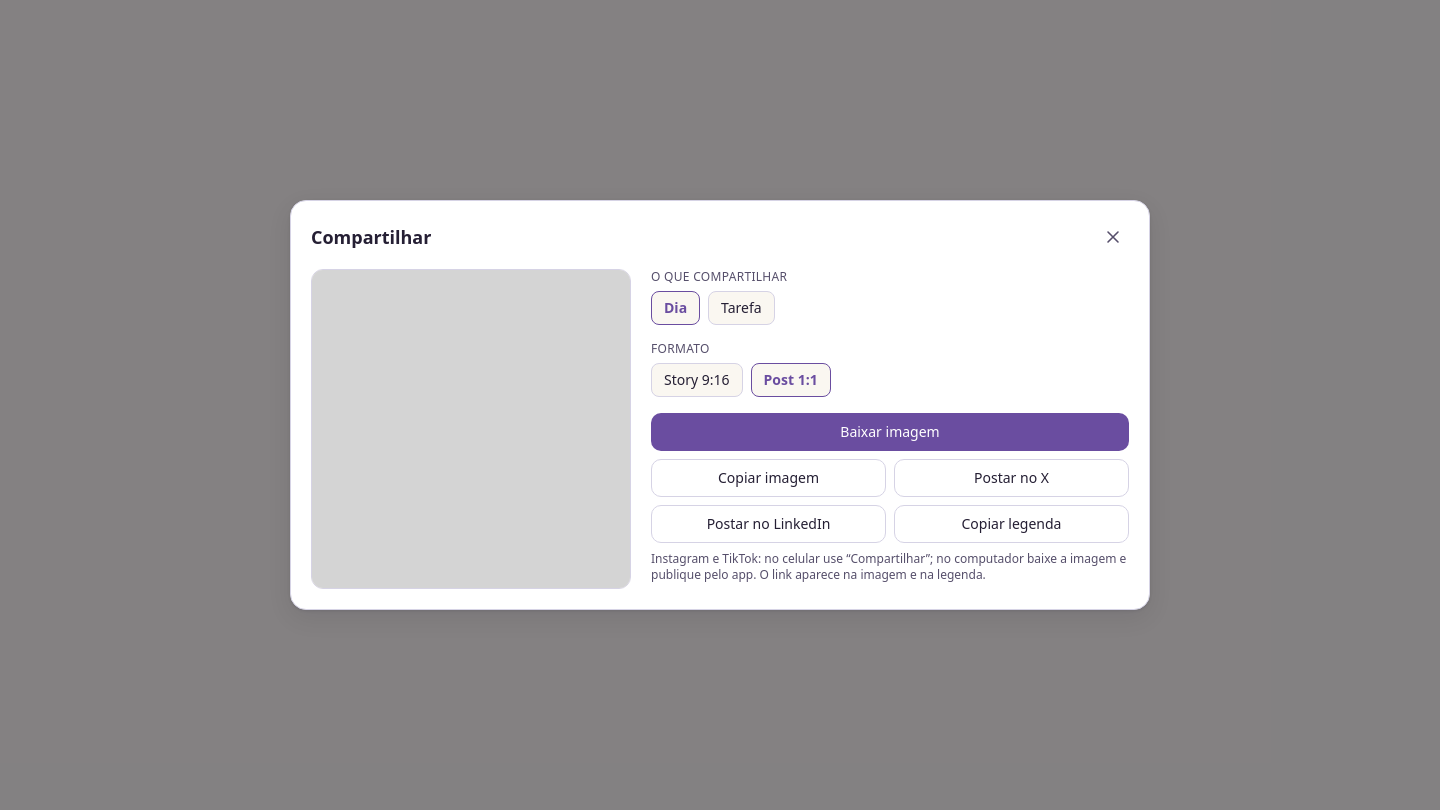
Scenario: ShareDialog › guides the user when there are no tasks yet
The width and height of the screenshot is (1440, 810).
Click the radio button labelled "Tarefa".
click(741, 308)  # box [708,291,775,325]
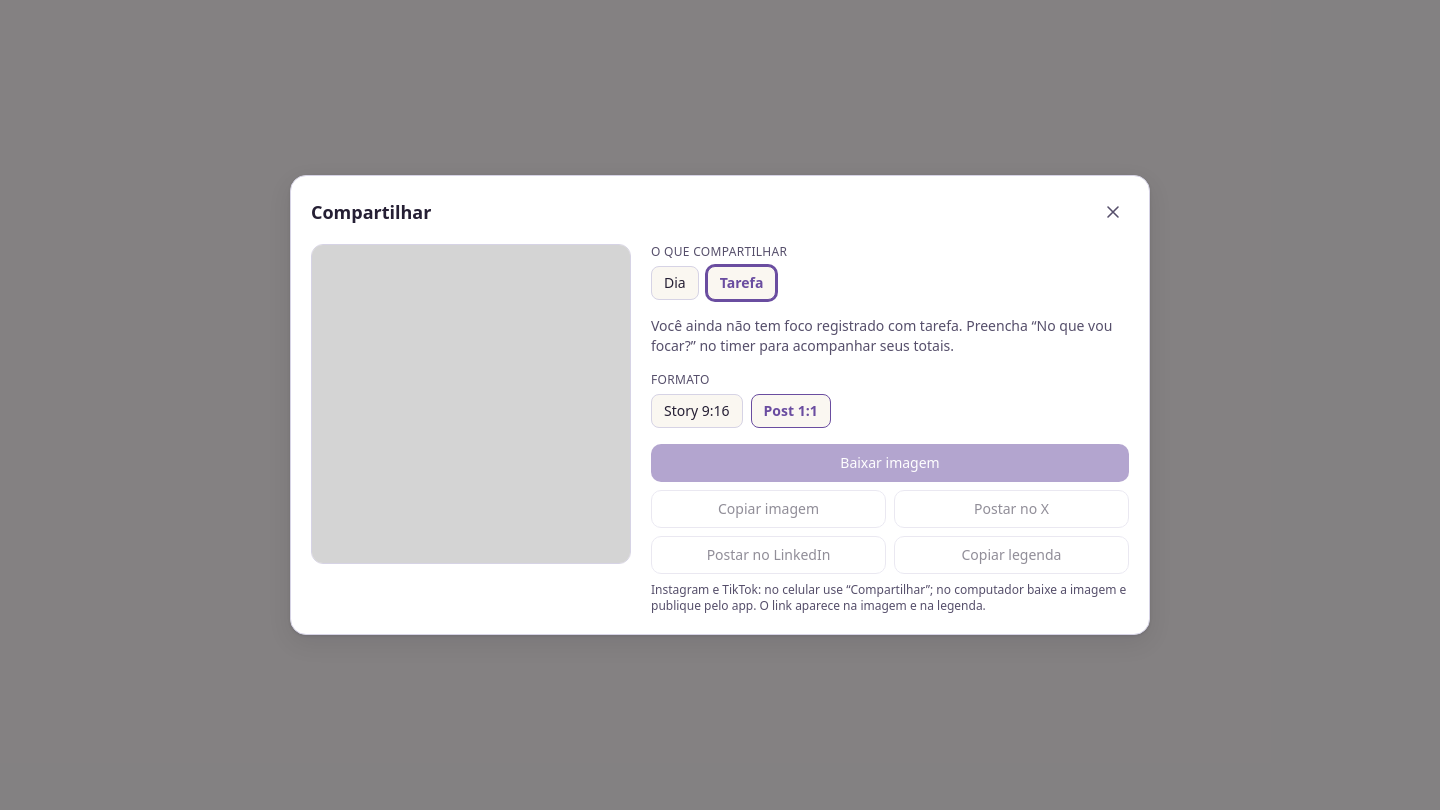
expect the text "ainda não tem foco registrado com tarefa" is shown: met, box [651,316,1112,355]
